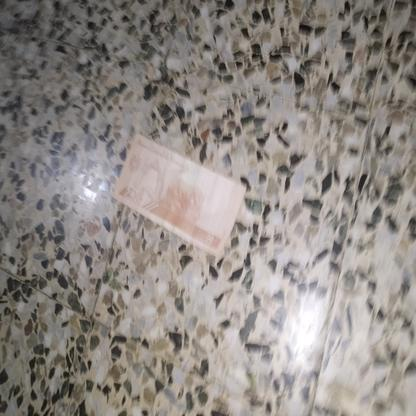twenty-back-vef: (110, 132, 248, 254)
